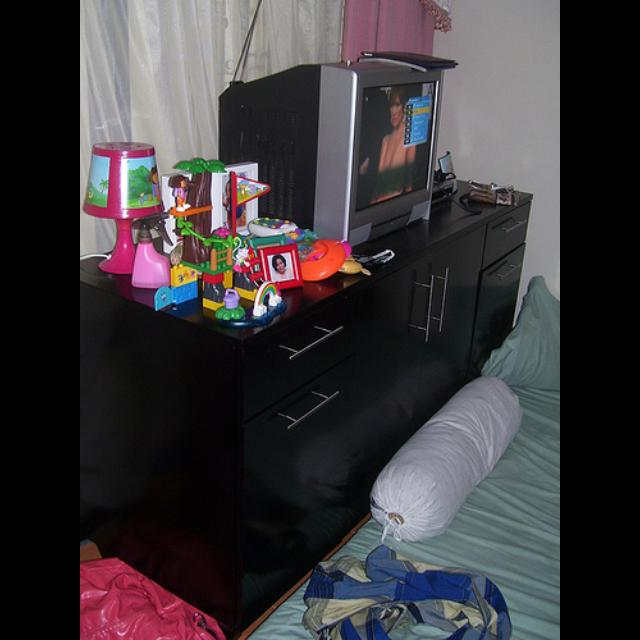Flat-Panel-TV: (218, 50, 457, 248)
